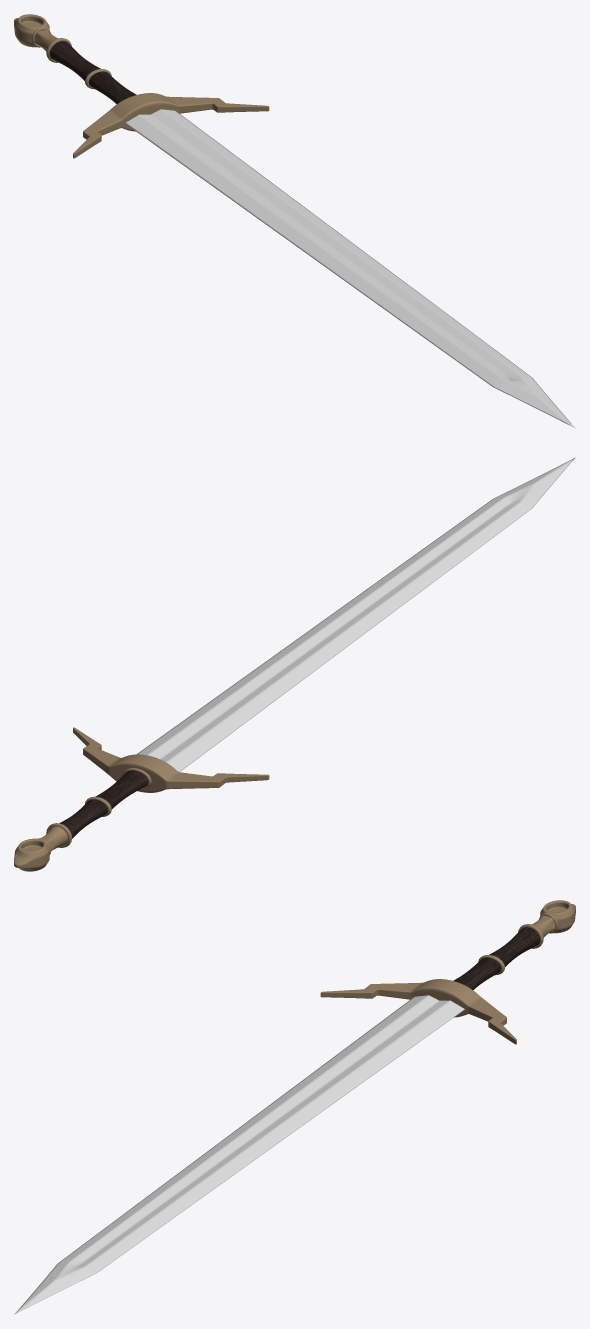
Rendered from Fantasy sword +Textures1.fbx.
The picture shows the model from 3 angles, top to bottom: view 1: azimuth 30°, elevation 25°; view 2: azimuth 150°, elevation 25°; view 3: azimuth 330°, elevation 25°; orthographic projection.
Visible parts, largest first — view 1: Cube, Cylinder, Cylinder.001, Cylinder.003; view 2: Cube, Cylinder, Cylinder.001, Cylinder.003; view 3: Cube, Cylinder, Cylinder.001, Cylinder.003.
Part boxes in pixels (left/top/right/bottom): Cube: left=125, top=109, right=575, bottom=428; Cylinder: left=73, top=93, right=269, bottom=158; Cylinder.001: left=49, top=41, right=136, bottom=104; Cylinder.003: left=14, top=14, right=49, bottom=47; Cube: left=137, top=457, right=575, bottom=771; Cylinder: left=73, top=727, right=269, bottom=792; Cylinder.001: left=59, top=770, right=148, bottom=838; Cylinder.003: left=14, top=838, right=49, bottom=871; Cube: left=14, top=995, right=464, bottom=1314; Cylinder: left=320, top=979, right=516, bottom=1044; Cylinder.001: left=453, top=927, right=540, bottom=990; Cylinder.003: left=540, top=900, right=575, bottom=933.
Size of the model in its own units: 178 by 24.18 by 882.
4 materials, 1 textured.
